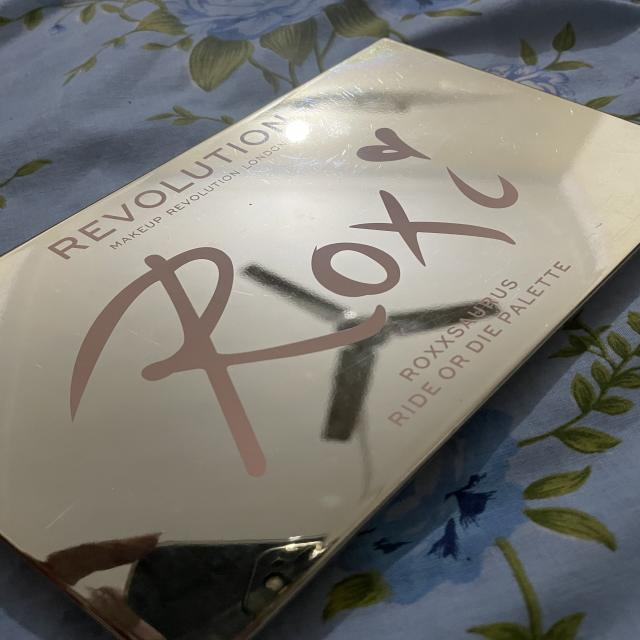makeup: (0, 7, 636, 640)
